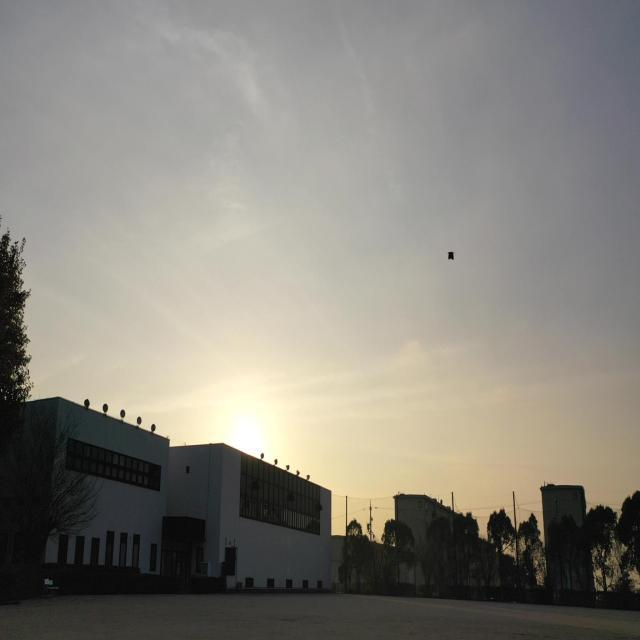Birds: (440, 245, 460, 266)
